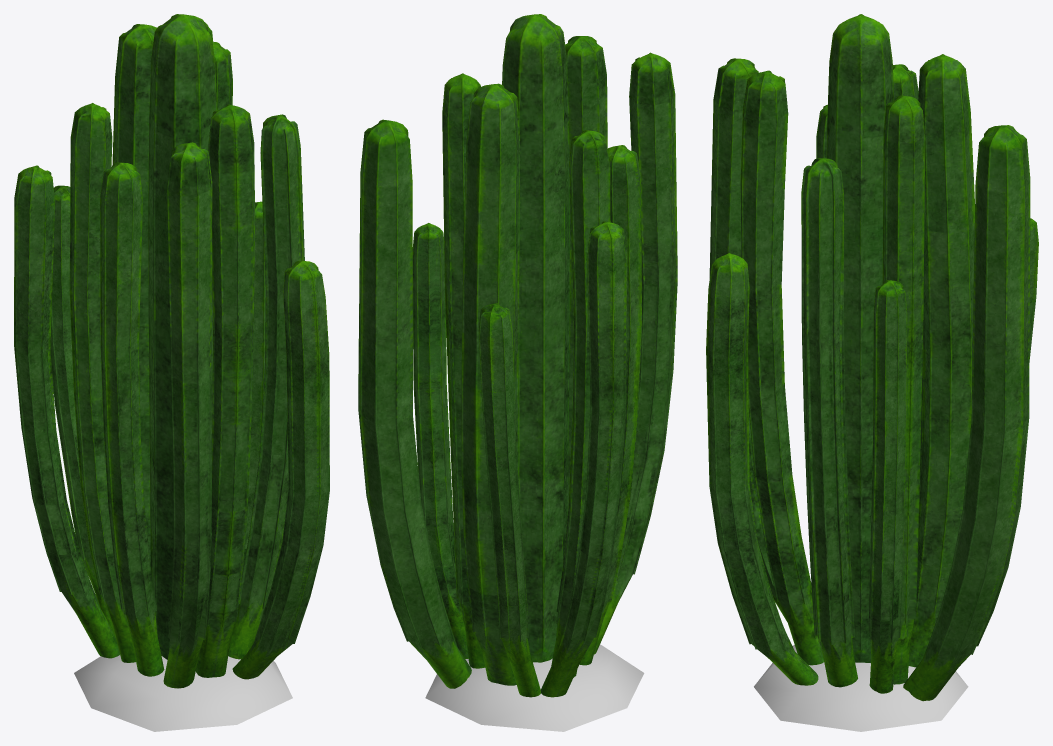
Rendered from Cactus_Pachycereus_Green.fbx.
The picture shows the model from 3 angles, left to right: view 1: azimuth 30°, elevation 25°; view 2: azimuth 150°, elevation 25°; view 3: azimuth 270°, elevation 25°; orthographic projection.
Visible parts, largest first — view 1: Stem_3, Stem_8, Stem_6, Stem_1, Stem_11, Stem_12, Stem_4, Stem_7, Base, Stem_2, Stem_13, Stem_9 (+1 smaller); view 2: Stem_1, Stem_10, Stem_2, Stem_8, Stem_11, Stem_9, Stem_13, Stem_7, Stem_5, Base, Stem_6, Stem_3; view 3: Stem_10, Stem_2, Stem_1, Stem_3, Stem_4, Stem_12, Stem_5, Stem_9, Base, Stem_8, Stem_13, Stem_7.
Boxes of the visible parts, left/top/right/bottom form: Stem_3: left=195, top=104, right=255, bottom=677; Stem_8: left=163, top=142, right=212, bottom=688; Stem_6: left=100, top=162, right=164, bottom=676; Stem_1: left=148, top=14, right=216, bottom=659; Stem_11: left=14, top=165, right=119, bottom=658; Stem_12: left=232, top=260, right=329, bottom=679; Stem_4: left=228, top=114, right=304, bottom=659; Stem_7: left=69, top=103, right=135, bottom=662; Base: left=74, top=655, right=292, bottom=731; Stem_2: left=112, top=24, right=156, bottom=563; Stem_13: left=50, top=185, right=113, bottom=631; Stem_9: left=242, top=201, right=265, bottom=575; Stem_1: left=502, top=14, right=569, bottom=662; Stem_10: left=358, top=119, right=471, bottom=688; Stem_2: left=461, top=83, right=520, bottom=685; Stem_8: left=594, top=52, right=677, bottom=654; Stem_11: left=541, top=221, right=627, bottom=697; Stem_9: left=412, top=223, right=468, bottom=658; Stem_13: left=478, top=303, right=540, bottom=697; Stem_7: left=551, top=130, right=610, bottom=677; Stem_5: left=442, top=73, right=485, bottom=668; Base: left=425, top=644, right=644, bottom=731; Stem_6: left=579, top=145, right=642, bottom=665; Stem_3: left=565, top=36, right=607, bottom=510; Stem_10: left=903, top=125, right=1030, bottom=701; Stem_2: left=908, top=54, right=974, bottom=667; Stem_1: left=826, top=14, right=893, bottom=662; Stem_3: left=740, top=70, right=823, bottom=665; Stem_4: left=801, top=158, right=857, bottom=687; Stem_12: left=706, top=253, right=818, bottom=685; Stem_5: left=882, top=95, right=925, bottom=684; Stem_9: left=868, top=280, right=907, bottom=693; Base: left=754, top=645, right=968, bottom=731; Stem_8: left=709, top=58, right=787, bottom=621; Stem_13: left=1029, top=218, right=1038, bottom=362; Stem_7: left=893, top=64, right=918, bottom=100.
Size of the model in its own units: 3.48 by 9.47 by 4.26.
